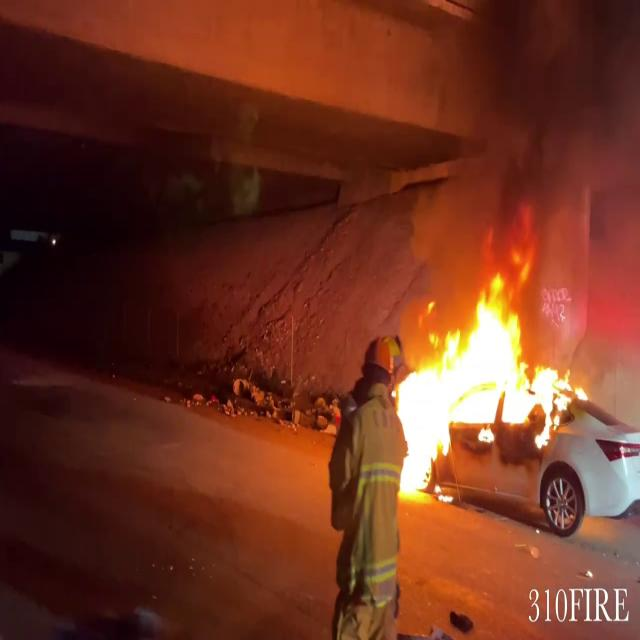Fire: (386, 254, 582, 498)
Smoke: (384, 0, 640, 269)
